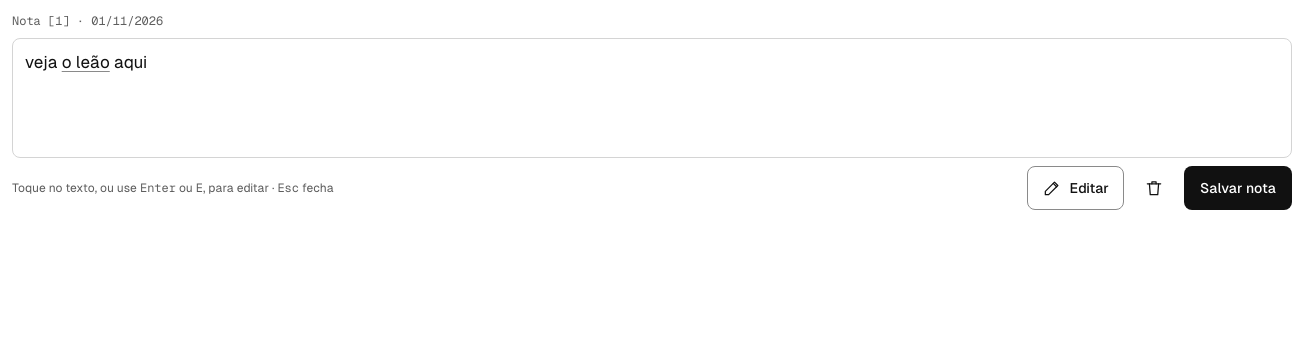
it: leitura › clicar no texto abre o campo com o código [ […]] e o foco, com o cursor no fim
Click the text "veja o leão aqui".
click(43, 62)  # box [25,52,147,72]
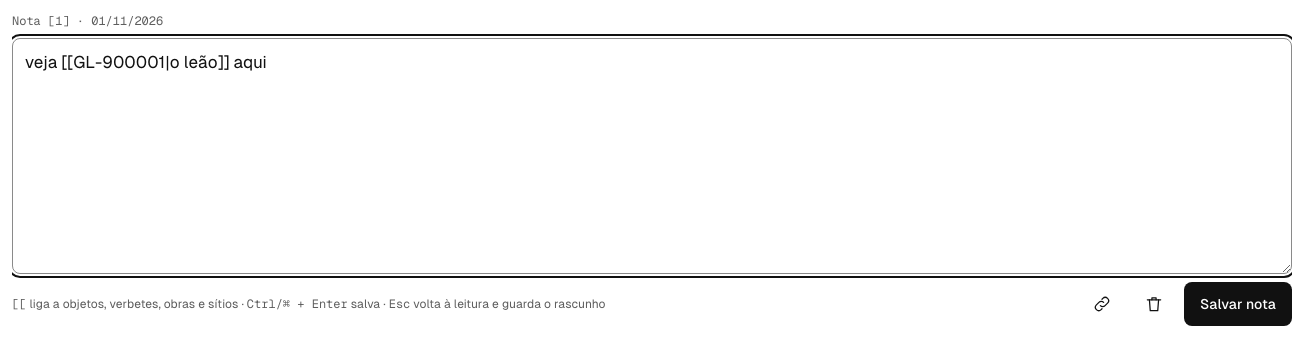
Check: the text box labelled "Nota [1] · 01/11/2026" holds "veja [ [GL-900001|o leão]] aqui"
